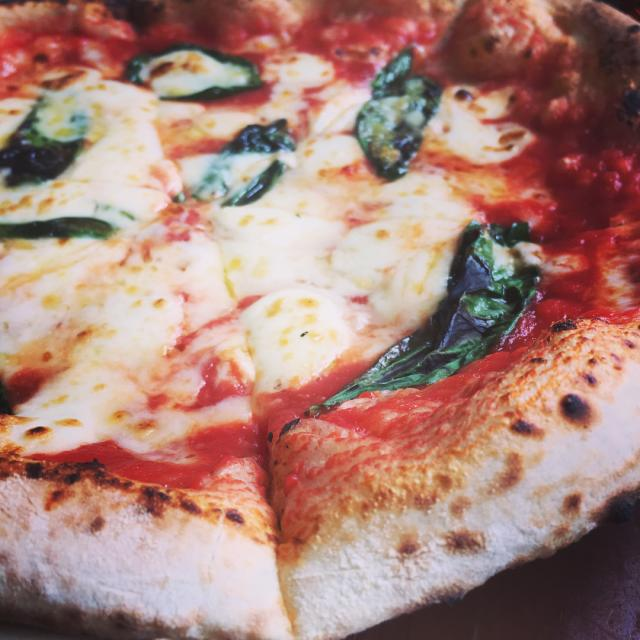basil: (312, 222, 545, 415), (355, 48, 443, 184), (184, 119, 296, 209), (0, 88, 95, 188), (124, 47, 266, 102), (0, 217, 117, 245)
pizza: (0, 0, 640, 640)
